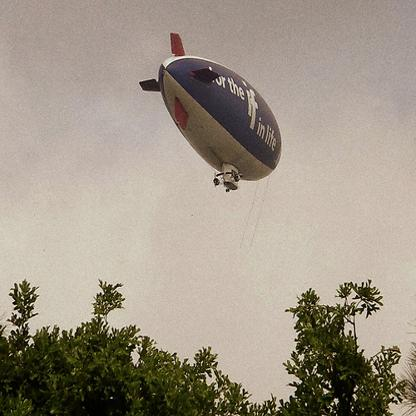Airship: (140, 32, 288, 201)
